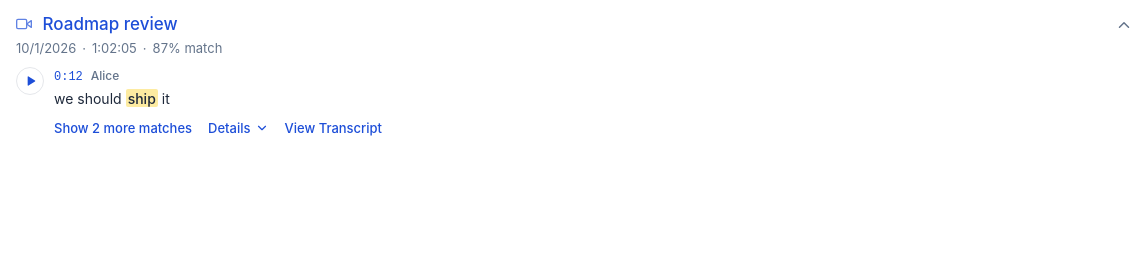
it: SearchResultCard — compact result › "Show more matches" is a disclosure that reveals and re-hides the rest
Click the button "Show 2 more matches".
click(123, 128)  # box [54,118,192,138]
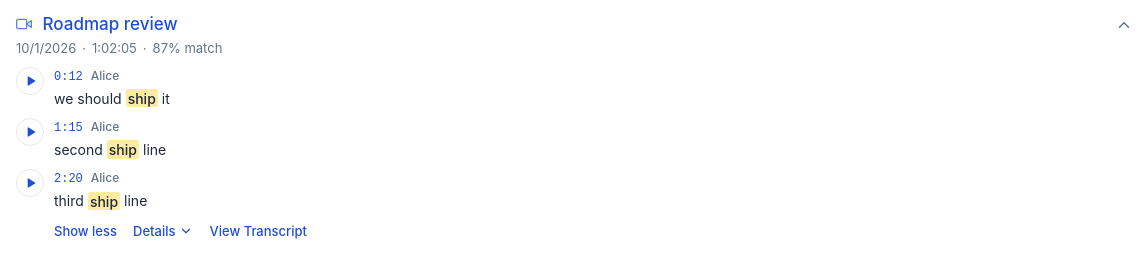
Expected: the number of list items with class "occurrence-row" is 3, [16,67,170,107]; [16,118,166,159]; [16,169,147,210]
Expected: the button "Show less" is expanded
Click the button "Show less".
click(86, 231)  # box [54,221,117,241]
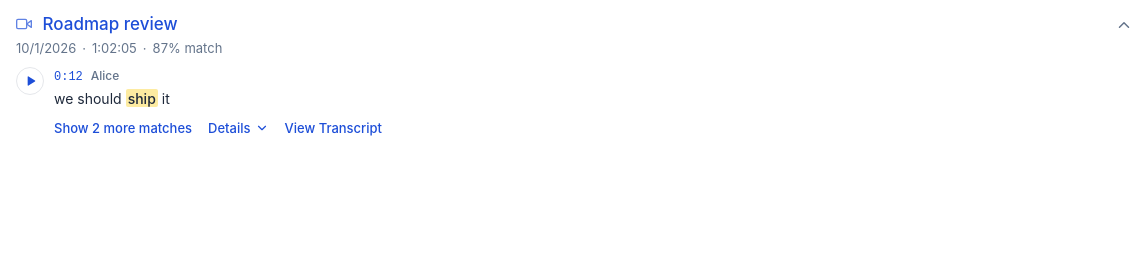
Expected: the number of list items with class "occurrence-row" is 1, [16,67,170,107]
